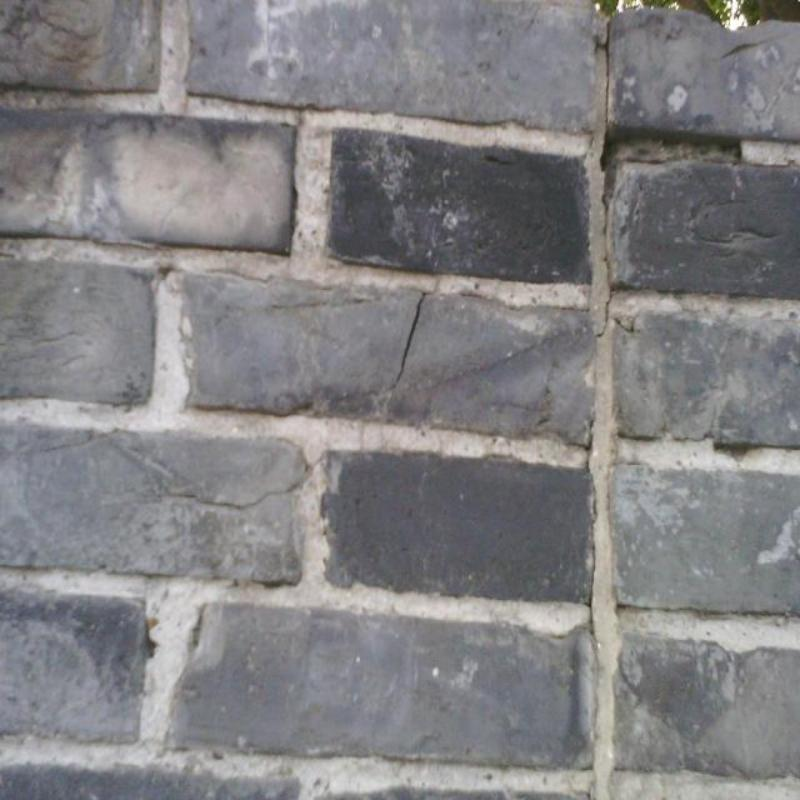pothole: (594, 21, 639, 340), (156, 469, 311, 508), (687, 138, 799, 169), (397, 293, 428, 383), (588, 486, 597, 632), (610, 134, 680, 145), (611, 156, 680, 166), (585, 424, 595, 472), (714, 444, 750, 456), (145, 638, 152, 658)
